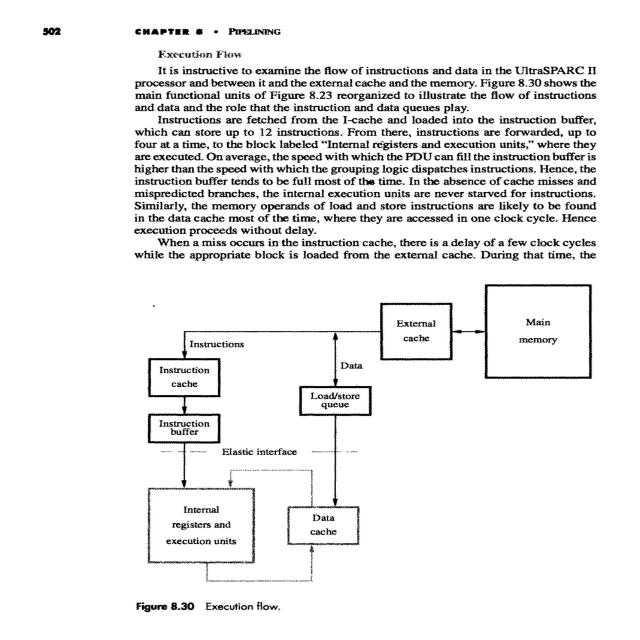diagram: (94, 271, 640, 619)
